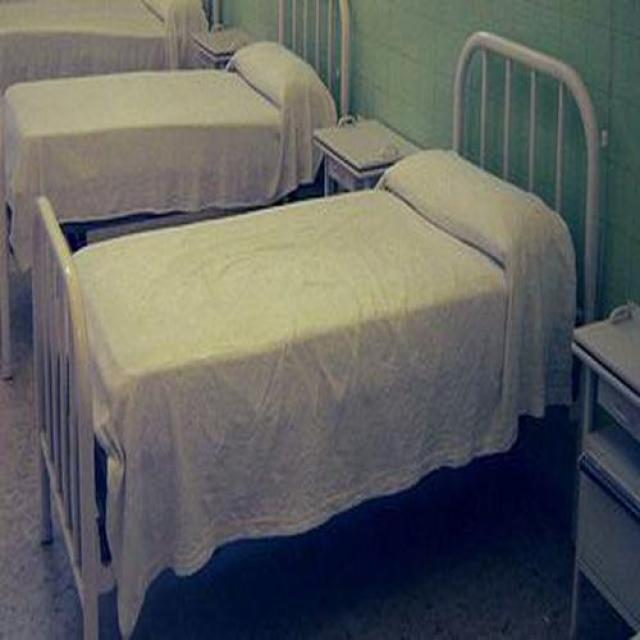bed: (32, 33, 608, 640), (6, 0, 348, 271)
